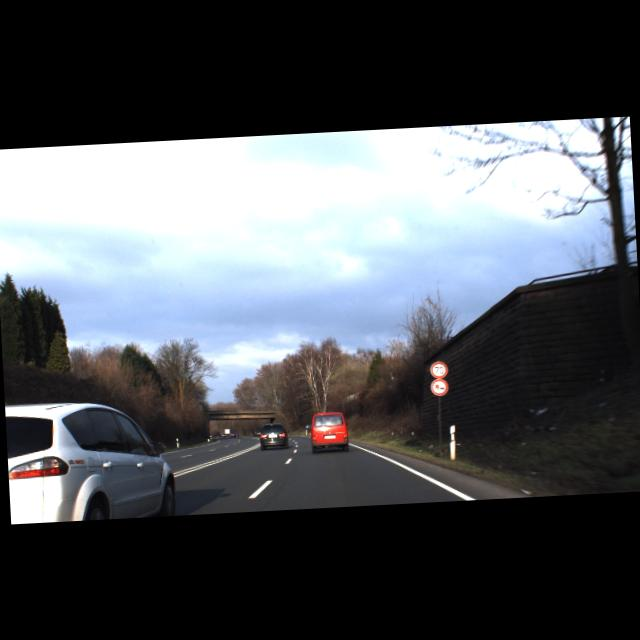prohibitory: (430, 361, 448, 379), (430, 378, 448, 396)
